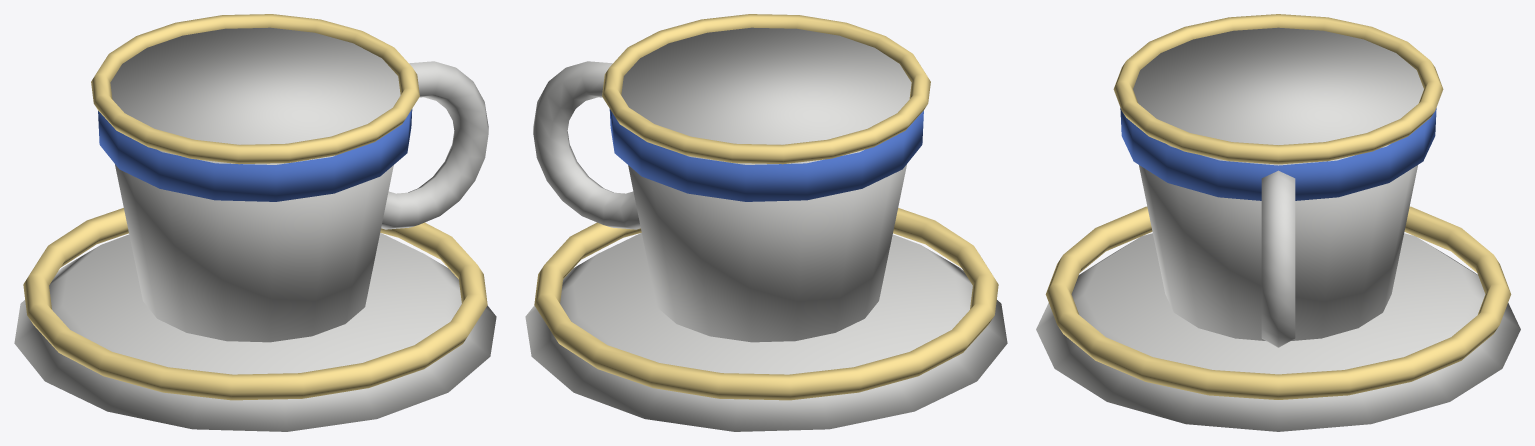
The model's file is china_cup.glb.
The picture shows the model from 3 angles, left to right: view 1: azimuth 30°, elevation 25°; view 2: azimuth 150°, elevation 25°; view 3: azimuth 270°, elevation 25°; orthographic projection.
Visible parts, largest first — view 1: china_cup; view 2: china_cup; view 3: china_cup.
Part boxes in pixels (left/top/right/bottom): china_cup: left=14, top=14, right=496, bottom=431; china_cup: left=525, top=14, right=1007, bottom=431; china_cup: left=1036, top=14, right=1520, bottom=431.
Size of the model in its own units: 0.158 by 0.0846 by 0.15.
